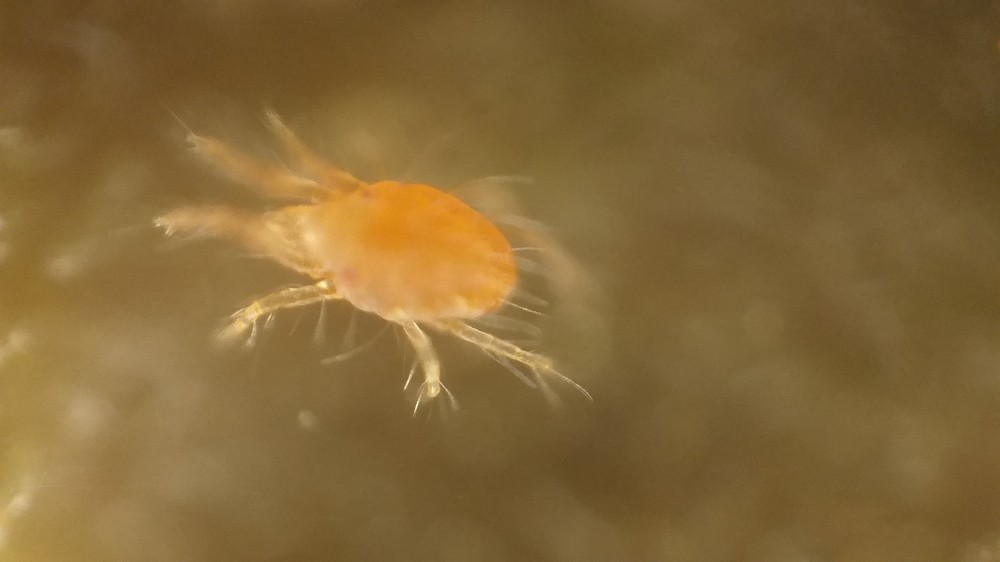Aracnido Rojo: (142, 96, 623, 452)
